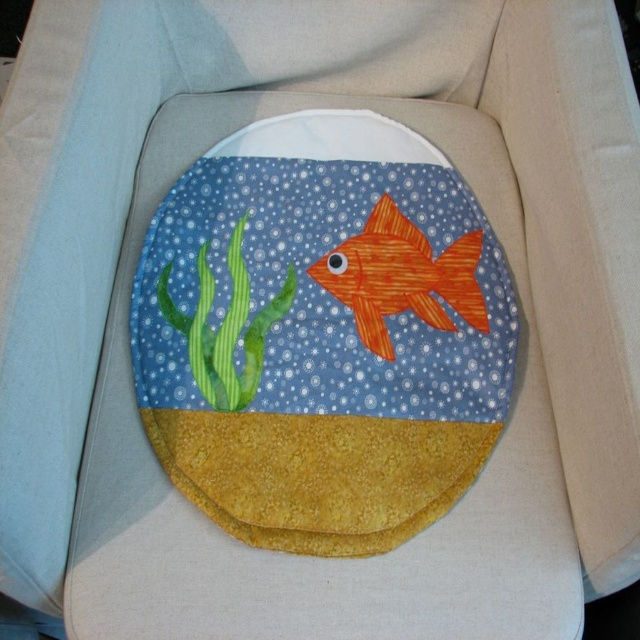Goldfish: (289, 194, 490, 370)
